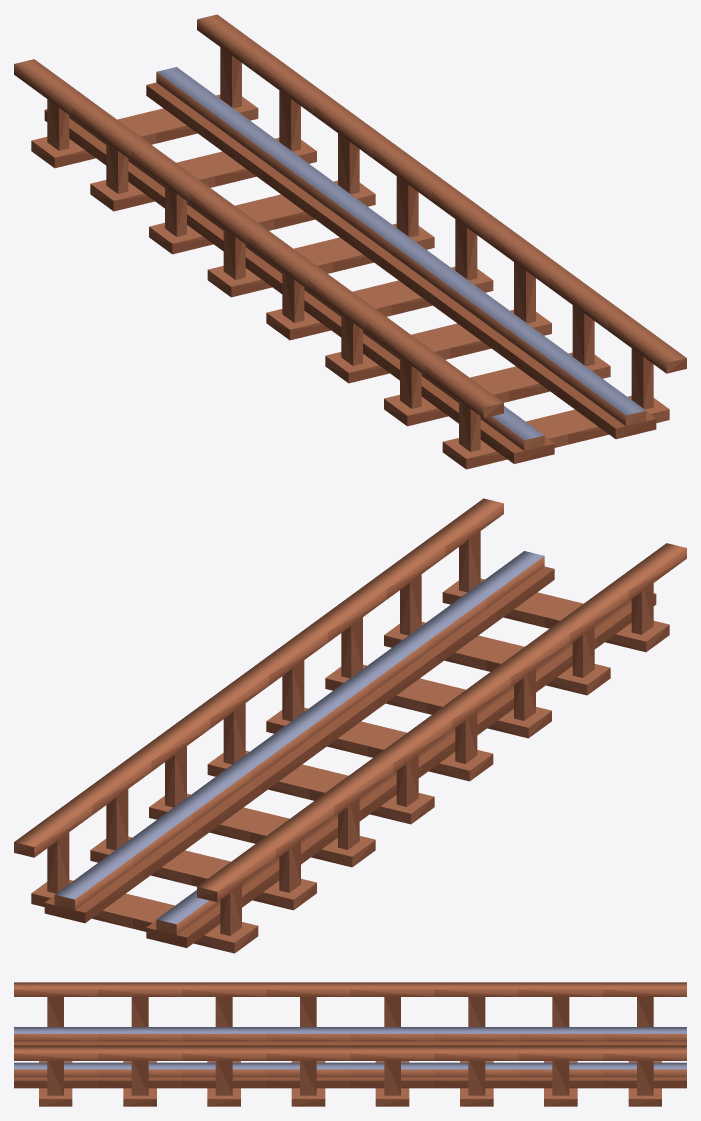
File: coaster_coaster_wood_straight.glb
3 views of the same model, one above another, from view 1: azimuth 30°, elevation 25°; view 2: azimuth 150°, elevation 25°; view 3: azimuth 270°, elevation 25° (orthographic). The views are drawn at different scales.
Visible parts, largest first — view 1: coaster_coaster_wood_straight; view 2: coaster_coaster_wood_straight; view 3: coaster_coaster_wood_straight.
Part boxes in pixels (x1,y1,x2,y2): coaster_coaster_wood_straight: (14,14,686,469); coaster_coaster_wood_straight: (14,498,686,953); coaster_coaster_wood_straight: (14,982,686,1106).
Size of the model in its own units: 1 by 0.35 by 4.
